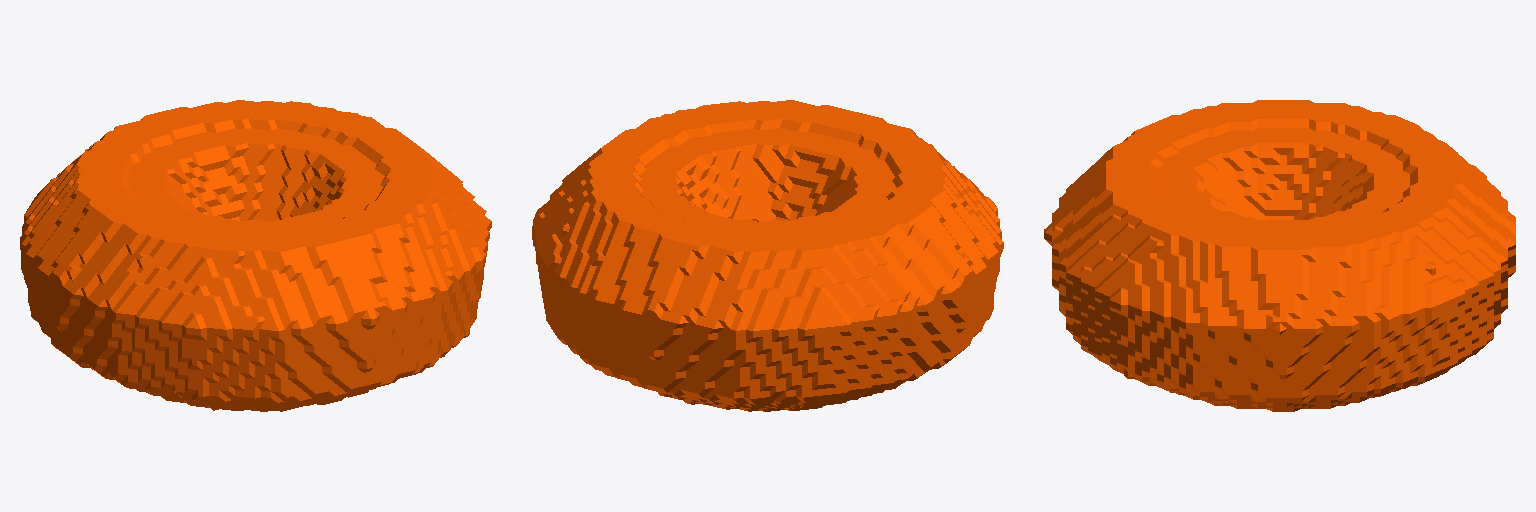
The robot description file, URDF, robot "Donut":
<robot name="Donut">
   <material name="obj_color">
      <color rgba="1.0 0.423529411765 0.0392156862745 1.0" />
   </material>
   <link name="top">
      <inertial>
         <origin rpy="0.0002661742046956548 0.0002662106618133654 0.000458156376686081" xyz="4.888601953705417e-06 2.341547816142847e-05 0.0003528697310006805" />
         <mass value="0.24875" />
         <inertia ixx="0.0002662080412045724" ixy="9.418879988282301e-09" ixz="9.314959397717721e-09" iyy="0.0002661768309756231" iyz="3.165340672400548e-08" izz="0.0004581563710149056" />
      </inertial>
      <visual>
         <origin rpy="0 0 0" xyz="0 0 0" />
         <geometry>
            <mesh filename="top_watertight_tiny.stl" scale="1 1 1" />
         </geometry>
         <material name="obj_color" />
      </visual>
      <collision>
         <origin rpy="0 0 0" xyz="0 0 0" />
         <geometry>
            <mesh filename="top_watertight_tiny.obj" scale="1 1 1" />
         </geometry>
      </collision>
   </link>
   <link name="bottom">
      <inertial>
         <origin rpy="1.633333333194242e-08 1.633333333194243e-08 1.633333333357667e-08" xyz="0.3464080000000008 0.3464080000000008 0.3464080000000008" />
         <mass value="0.0009800000000000017" />
         <inertia ixx="1.633333333248717e-08" ixy="5.447480642029219e-19" ixz="5.447480642029219e-19" iyy="1.633333333248717e-08" iyz="5.447480642029219e-19" izz="1.633333333248717e-08" />
      </inertial>
      <visual>
         <origin rpy="0 0 0" xyz="0 0 0" />
         <geometry>
            <mesh filename="bottom_watertight_tiny.stl" scale="1 1 1" />
         </geometry>
         <material name="obj_color" />
      </visual>
   </link>
   <link name="world" />
   <joint name="world_to_base" type="fixed">
      <origin xyz="0 0 0" />
      <axis xyz="0 0 0" />
      <parent link="world" />
      <child link="bottom" />
   </joint>
   <joint name="rotation" type="revolute">
      <origin xyz="0 0 0" />
      <axis xyz="0 0 -1" />
      <parent link="bottom" />
      <child link="top" />
      <dynamics damping="1.0" friction="1.0" />
      <limit effort="0.1" velocity="0.1" lower="0" upper="0.001" />
   </joint>
</robot>

--- Facts derived from the render (not from the file) ---
3 views of the same robot in one strip: view 1: azimuth 30°, elevation 25°; view 2: azimuth 150°, elevation 25°; view 3: azimuth 270°, elevation 25° (orthographic).
Robot: Donut — 3 links, 2 joints (1 revolute, 1 fixed); root link world; default pose: all joints at 0.
Visible links, largest first — view 1: top; view 2: top; view 3: top.
Boxes of the visible links, x1,y1,x2,y2 form: top: (20,100,491,411); top: (532,100,1003,411); top: (1044,100,1515,411).
Size in the robot's own frame: 0.125 by 0.125 by 0.05 metres.
1 mesh visuals loaded from 2 distinct referenced files (1 binary STL); not drawn: 1 (reference not matched to a file when rendering).